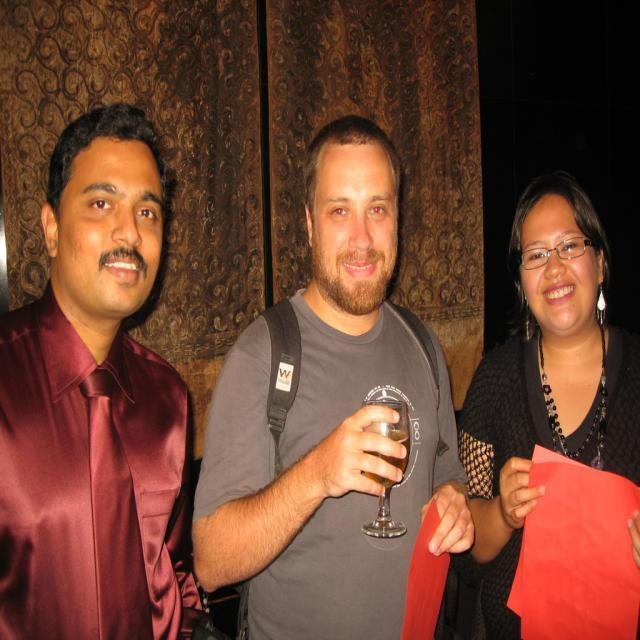closed-mouth: (345, 258, 381, 274)
